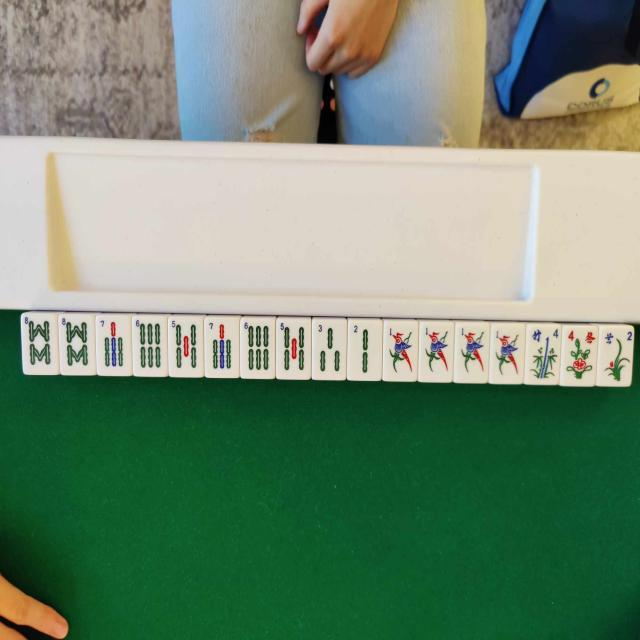bf2: (602, 328, 638, 385)
bf4: (528, 328, 563, 383)
bs4: (563, 329, 596, 386)
sb1: (422, 324, 454, 380), (456, 326, 488, 382), (385, 326, 417, 378), (492, 328, 523, 381)
sb2: (351, 324, 382, 380)
sb3: (314, 324, 346, 379)
sb5: (172, 320, 206, 374), (277, 324, 309, 380)
sb6: (242, 320, 274, 378), (133, 319, 166, 375)
sb7: (98, 318, 130, 374), (206, 321, 237, 376)
sb8: (61, 320, 94, 376), (20, 320, 54, 374)
